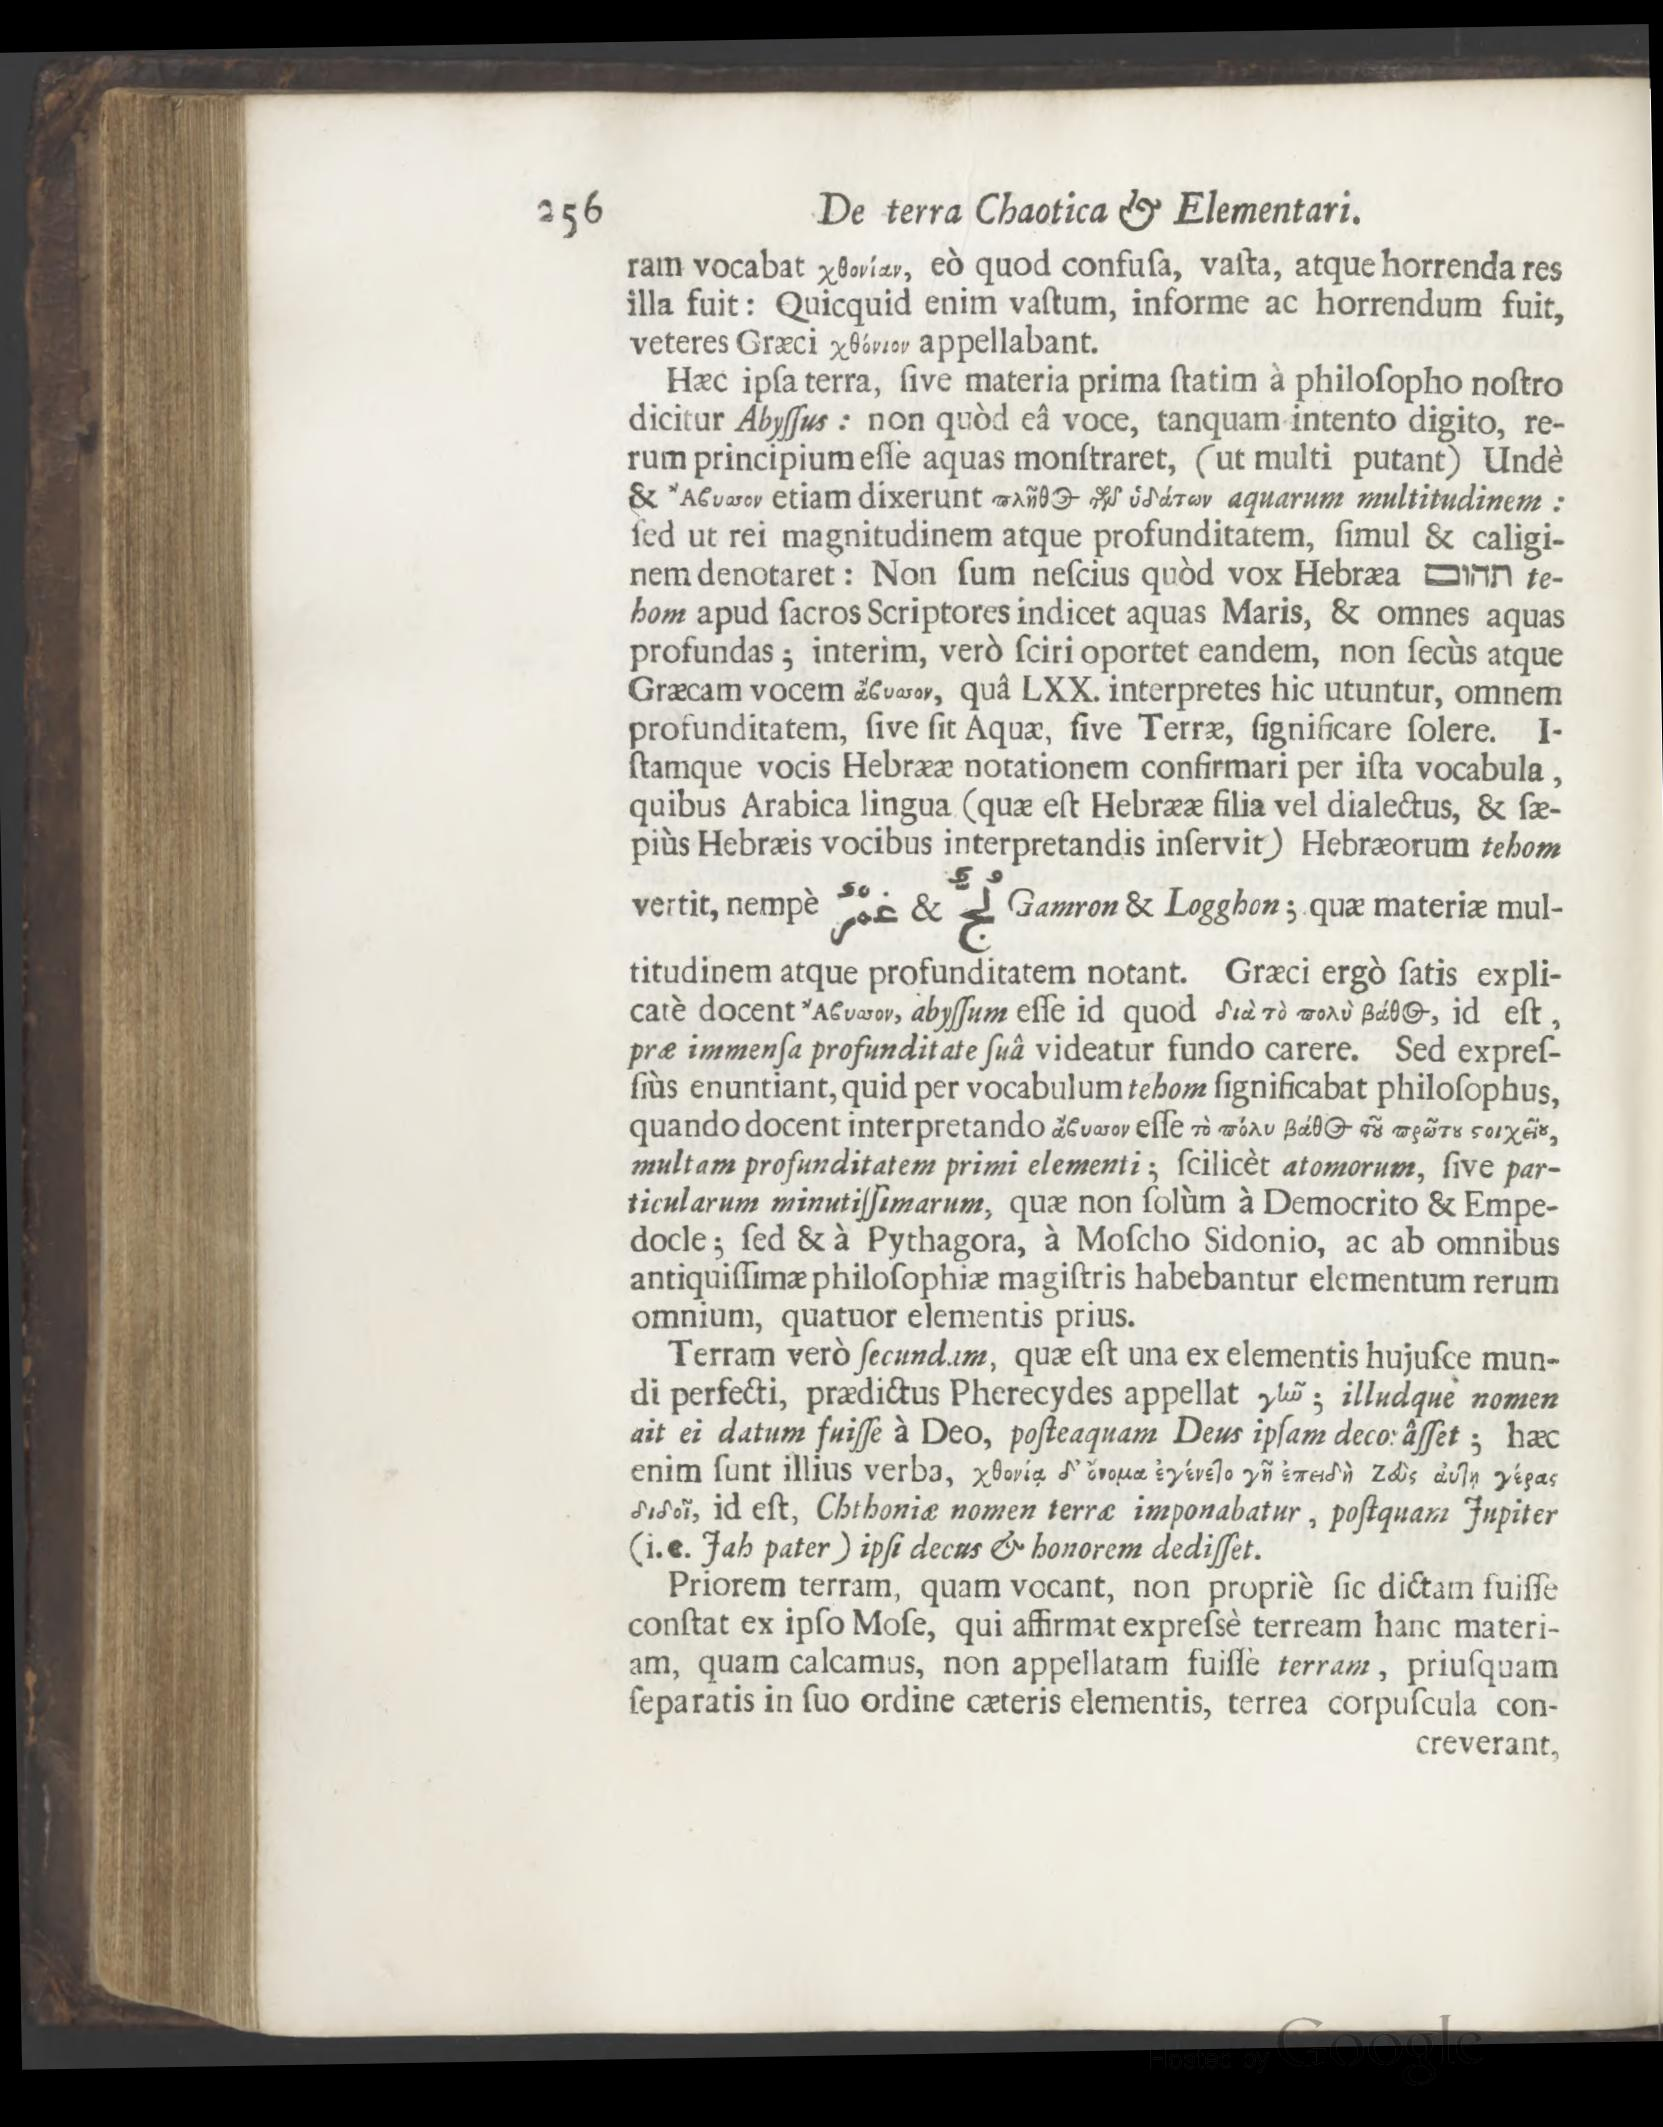bottom_p: (625, 247, 1570, 363)
catchword: (1413, 1723, 1565, 1758)
full_p: (627, 364, 1568, 1335), (630, 1335, 1565, 1564)
header: (808, 183, 1364, 238)
page_num: (527, 178, 610, 247)
top_p: (627, 1568, 1565, 1723)
